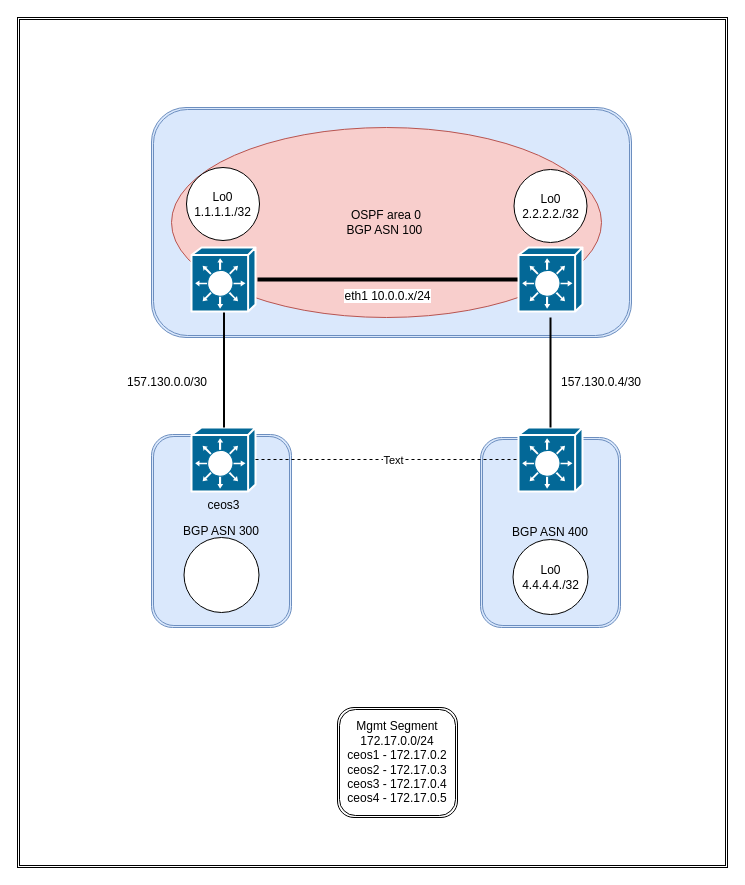
This 745x885 diagram has some shape labels left out. Each missing label, with the centre of its shape:
"ceos1" goes at point 223,279.
"ceos2" goes at point 550,279.
"ceos4" goes at point 550,459.
"Lo0 3.3.3.3./32" goes at point 221,574.
